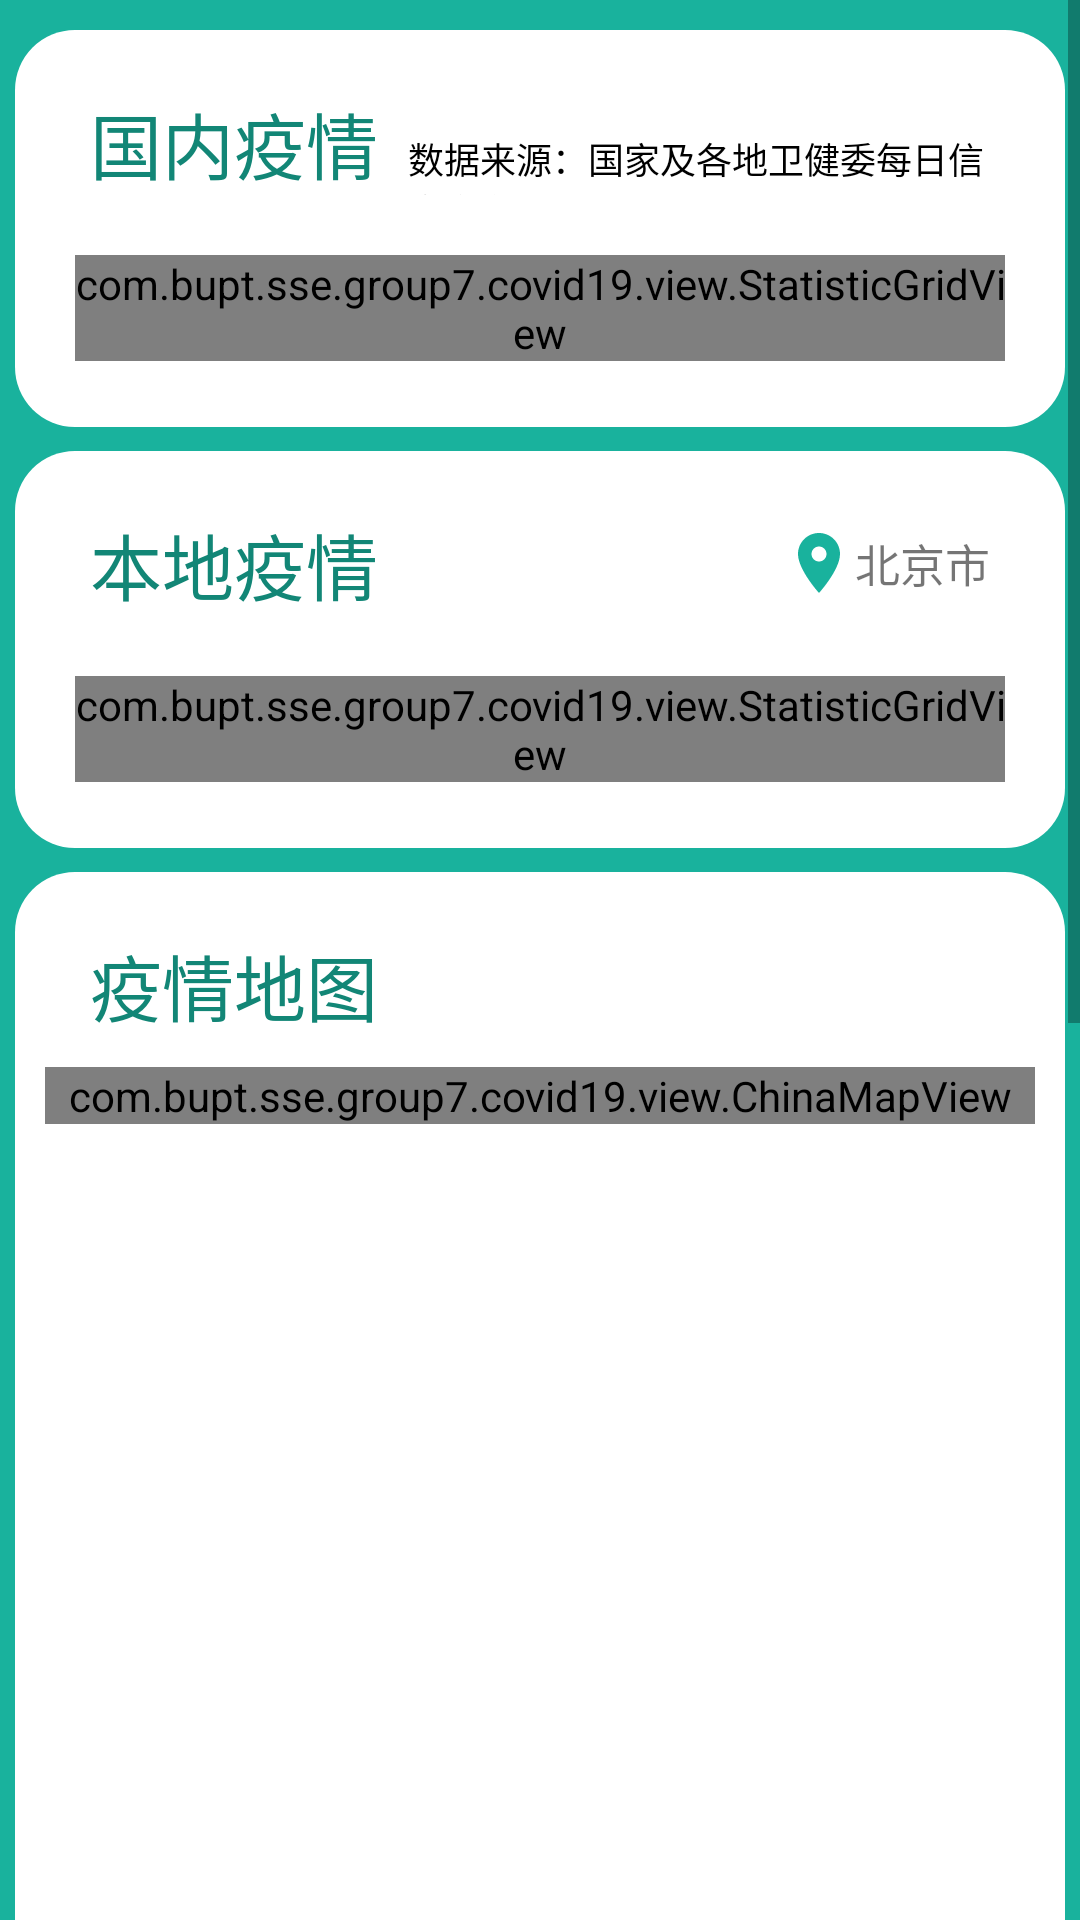

Screen size 1080*1920. Icon name, then its box in pixels as bbox=[x1, y1, x2, y2]:
location marker: bbox=[798, 533, 840, 593]
